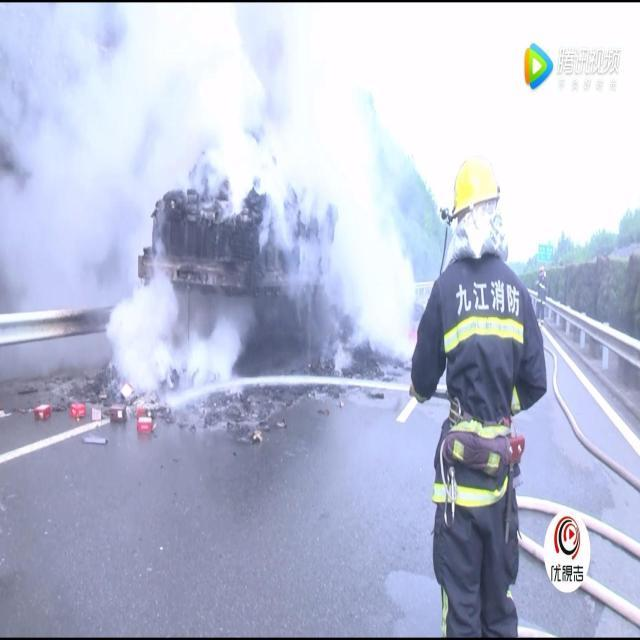Smoke: (0, 1, 419, 422)
